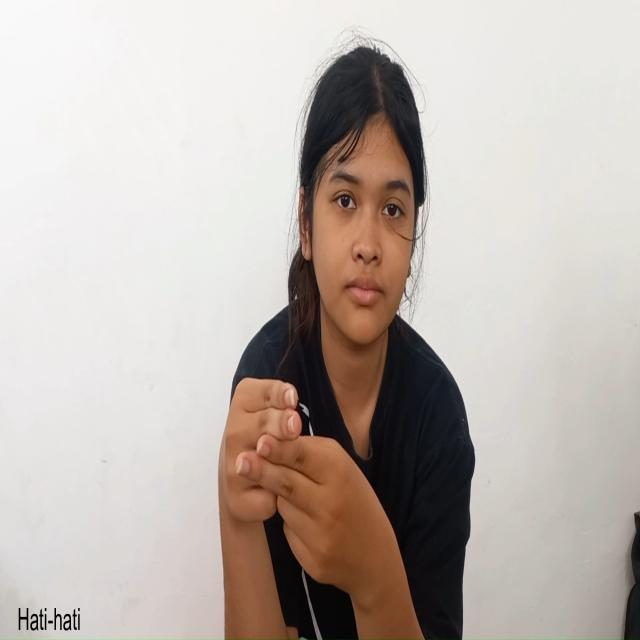Hati-hati -BISINDO-: (204, 363, 402, 603)
